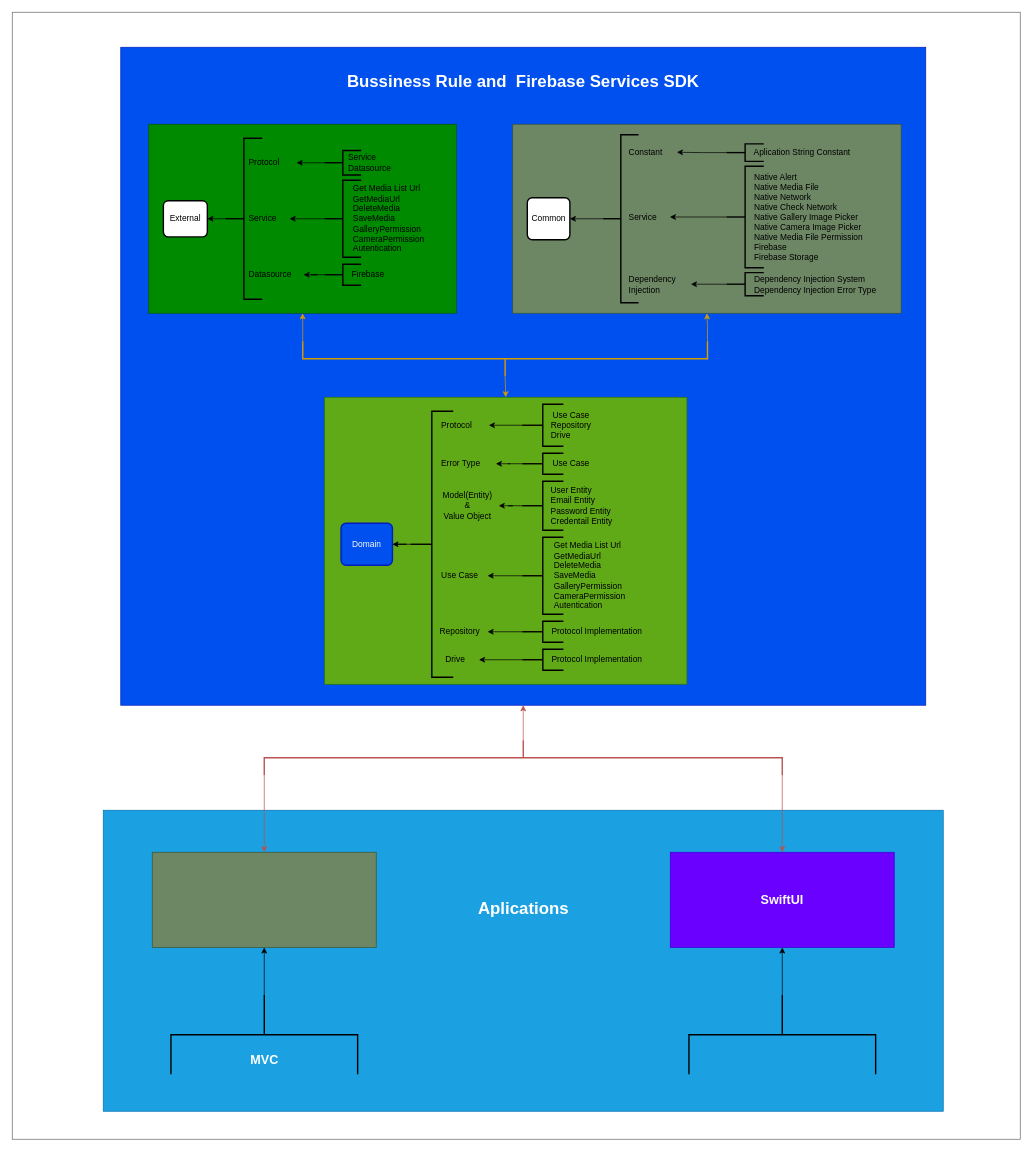
Image size: 1033x1152. Some labels were removed from this diagram. The shapes that lost their labels are listed below. From the top down, each one's centre as x and y in pixels, then its label:
[264,899]: UIKIt
[782,1034]: MVVM
